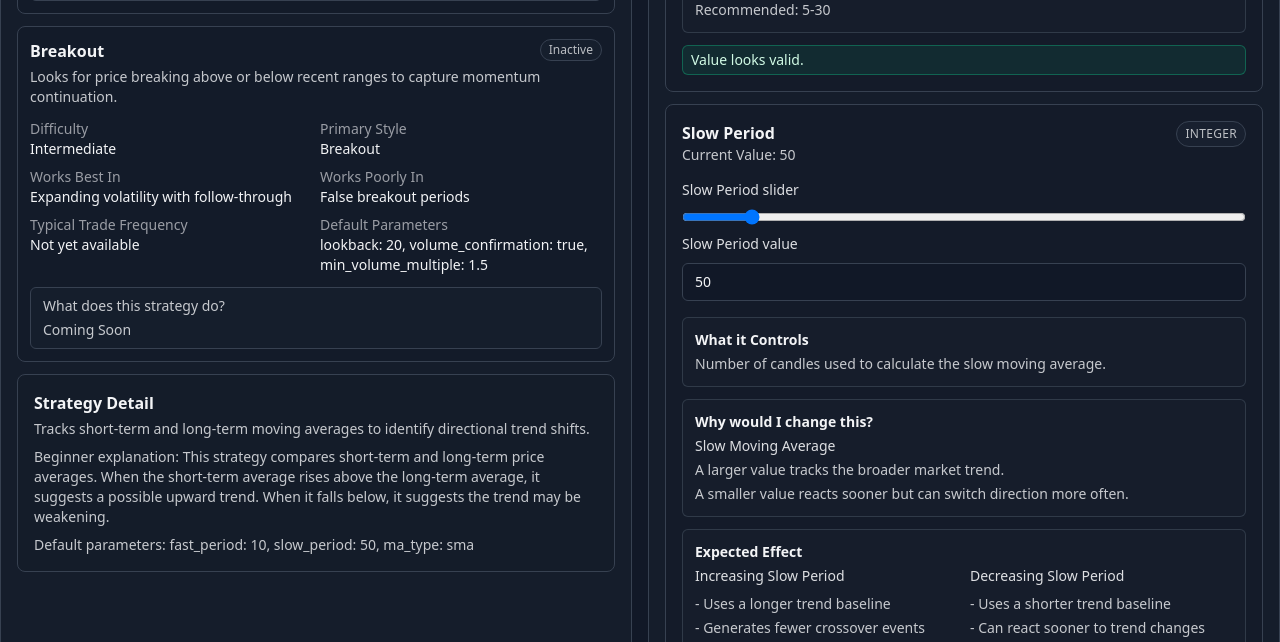
Test: StrategyLabPage Prompt 4.2 › applies a snapshot and refreshes parameter editor and validation
(page scrolled)
Step 1. Replace the text in the number field labelled "Slow Period value" with "2" → [964, 282], box [682,263,1246,301]
(page scrolled)
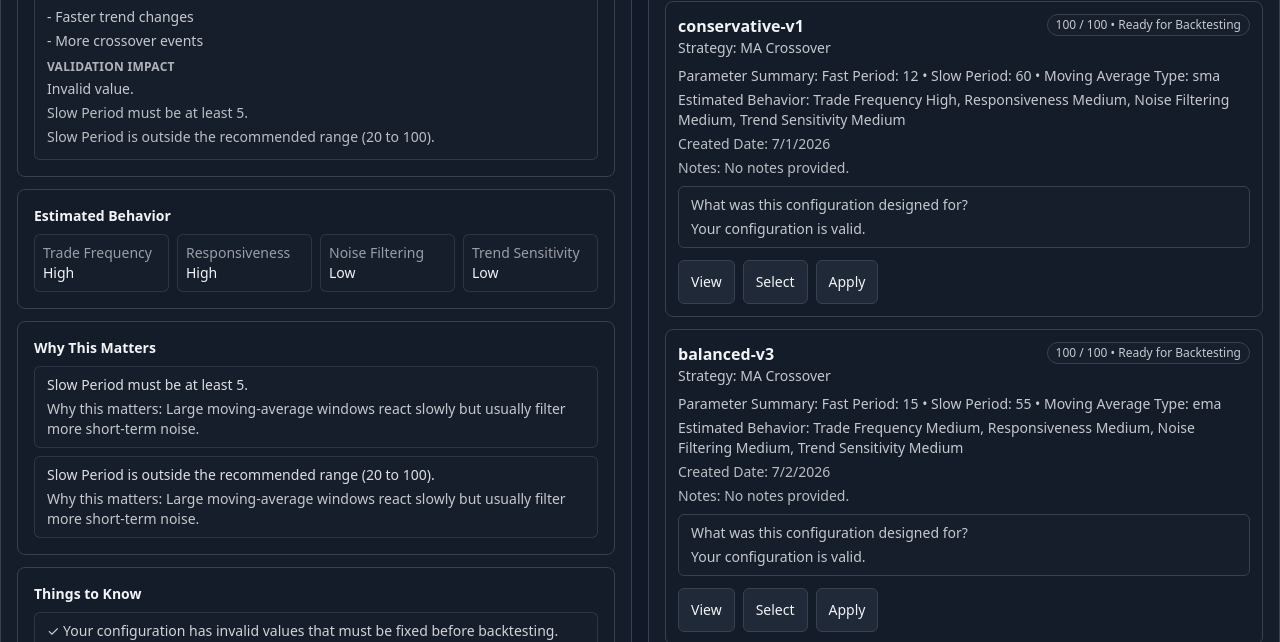
Step 2. Click the button with aria-label "Apply snapshot conservative-v1" → [847, 282], box [816,260,878,304]
(page scrolled)
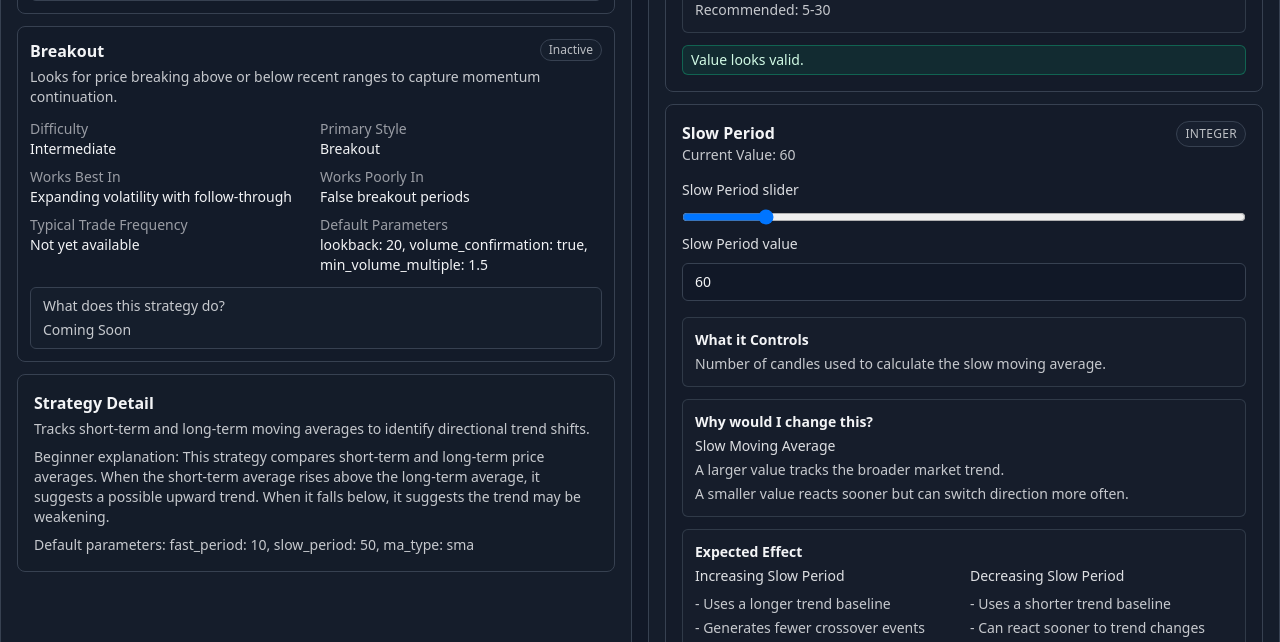
Check: the text "Slow Period must be at least 5." is not shown
Check: the number field labelled "Slow Period value" holds "60", box [682,263,1246,301]
